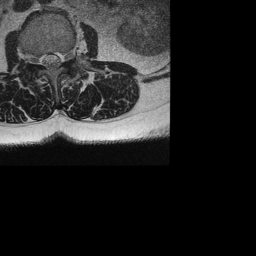CCS_normal: (47, 45, 55, 76)
LFS_normal: (63, 44, 70, 67)
LLS_normal: (55, 44, 63, 71)
RFS_normal: (32, 45, 39, 70)
RLS_normal: (39, 46, 47, 71)
